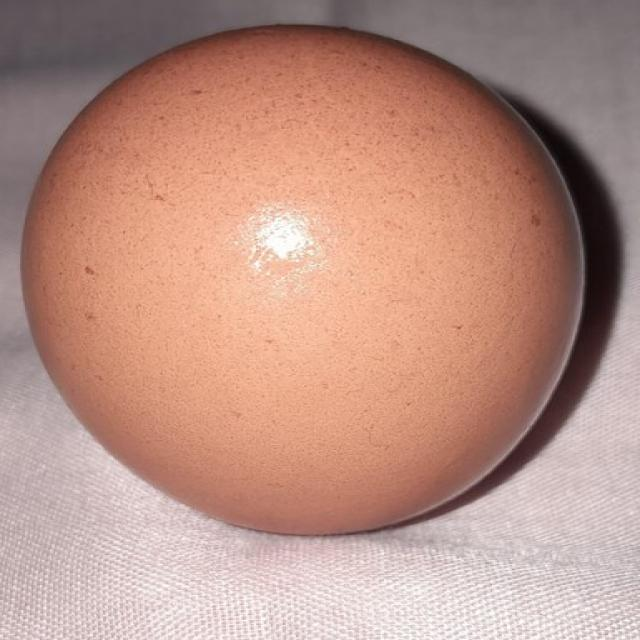unfresh: (22, 5, 588, 538)
